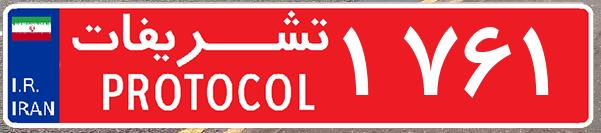1: (340, 20, 400, 115), (520, 20, 580, 115)
6: (460, 20, 520, 115)
7: (400, 20, 460, 115)
تشریفات: (60, 8, 340, 125)
